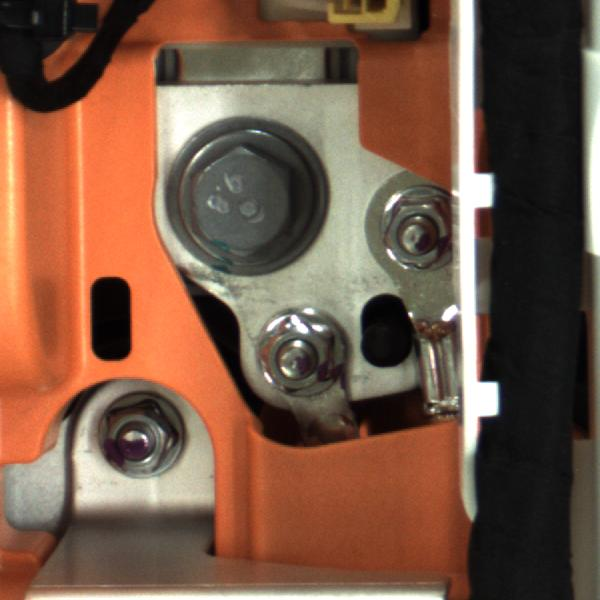nut_b: (149, 120, 342, 293)
screw_s: (239, 313, 354, 416), (98, 400, 195, 481), (381, 197, 458, 273)
